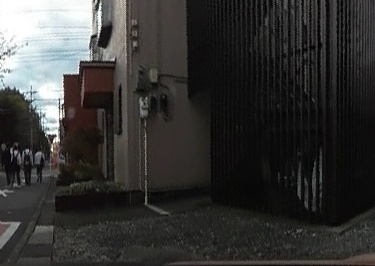person: (21, 143, 34, 184), (10, 143, 22, 185), (33, 148, 43, 185)
